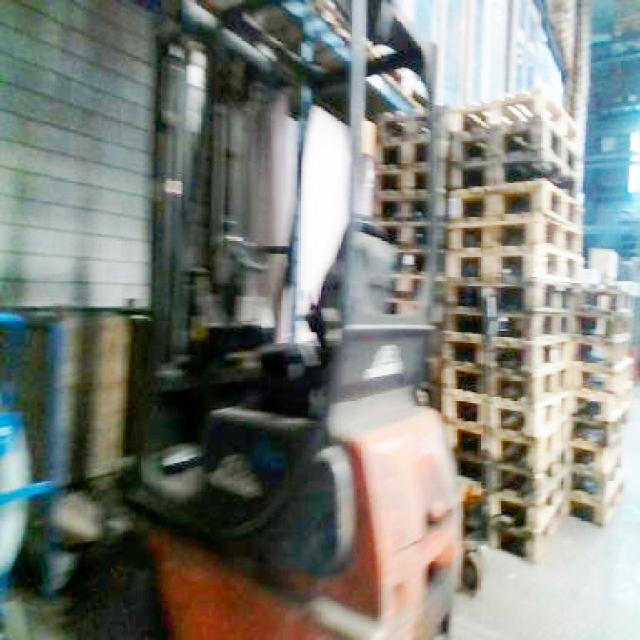ground: (0, 377, 638, 638)
pallet: (371, 86, 635, 565), (437, 175, 583, 563), (568, 282, 634, 528), (372, 108, 437, 318)
